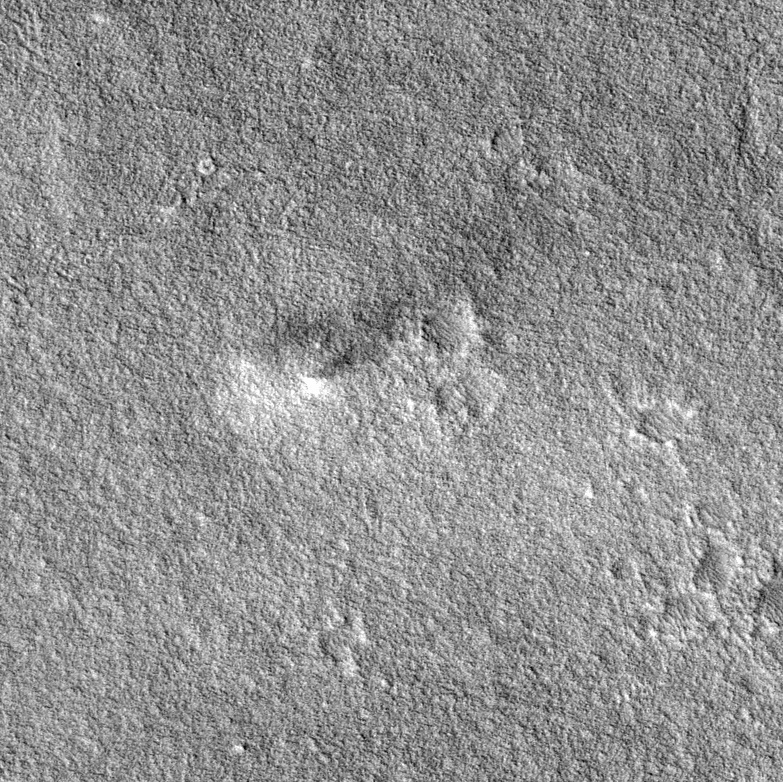dust_devil: (225, 246, 507, 409)
